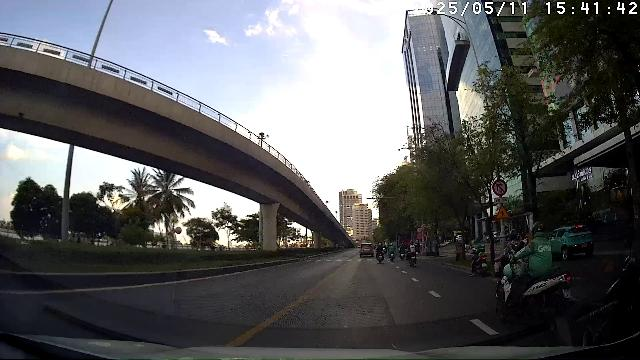103b-cam-oto-re-phai: (492, 180, 508, 197)
